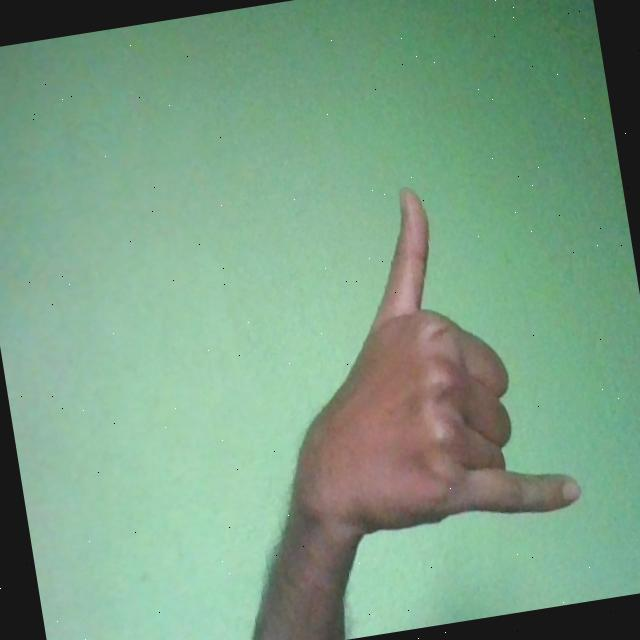Call Me: (242, 167, 584, 560)
